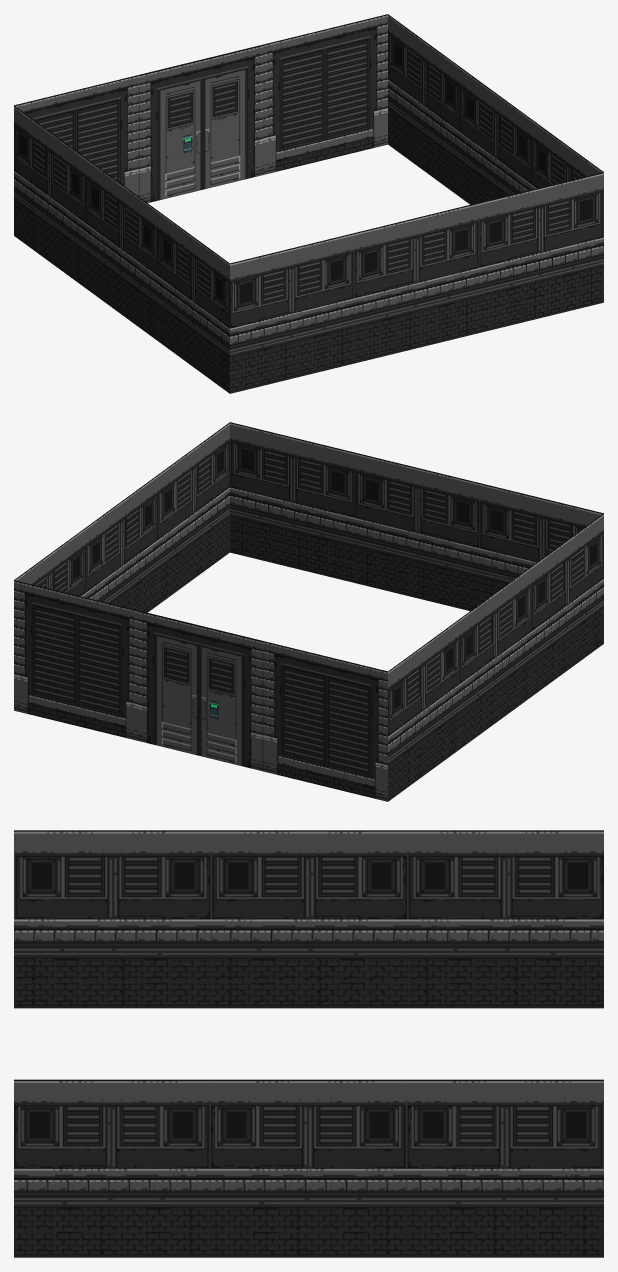
The model's file is btm_4.FBX.
The picture shows the model from 3 angles, top to bottom: view 1: azimuth 30°, elevation 25°; view 2: azimuth 150°, elevation 25°; view 3: azimuth 270°, elevation 25°; orthographic projection. The views are drawn at different scales.
Parts seen in each view (by area): view 1: gry_btm; view 2: gry_btm; view 3: gry_btm.
Part boxes in pixels (x1,y1,x2,y2): gry_btm: (14, 14, 603, 393); gry_btm: (14, 422, 603, 801); gry_btm: (14, 830, 603, 1257).
Bounding box in the file's own units: 147 × 49.08 × 147.
1 material, 1 textured.
